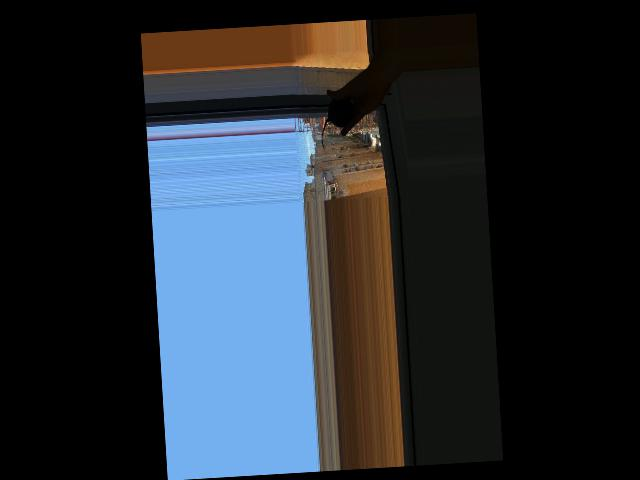beet: (319, 98, 356, 151)
